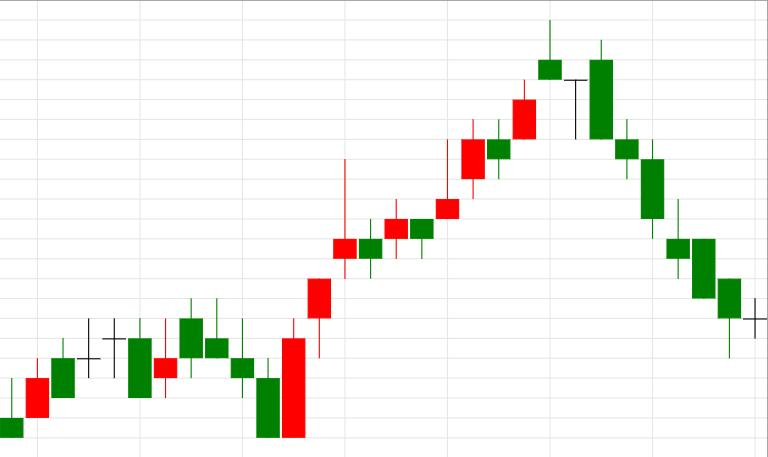bullish_engulfing_rise: (180, 298, 305, 439)
